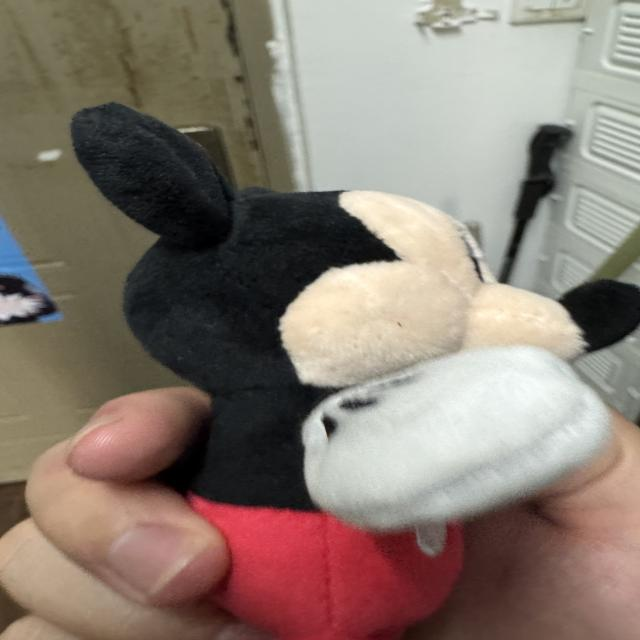mickey: (73, 105, 639, 639)
